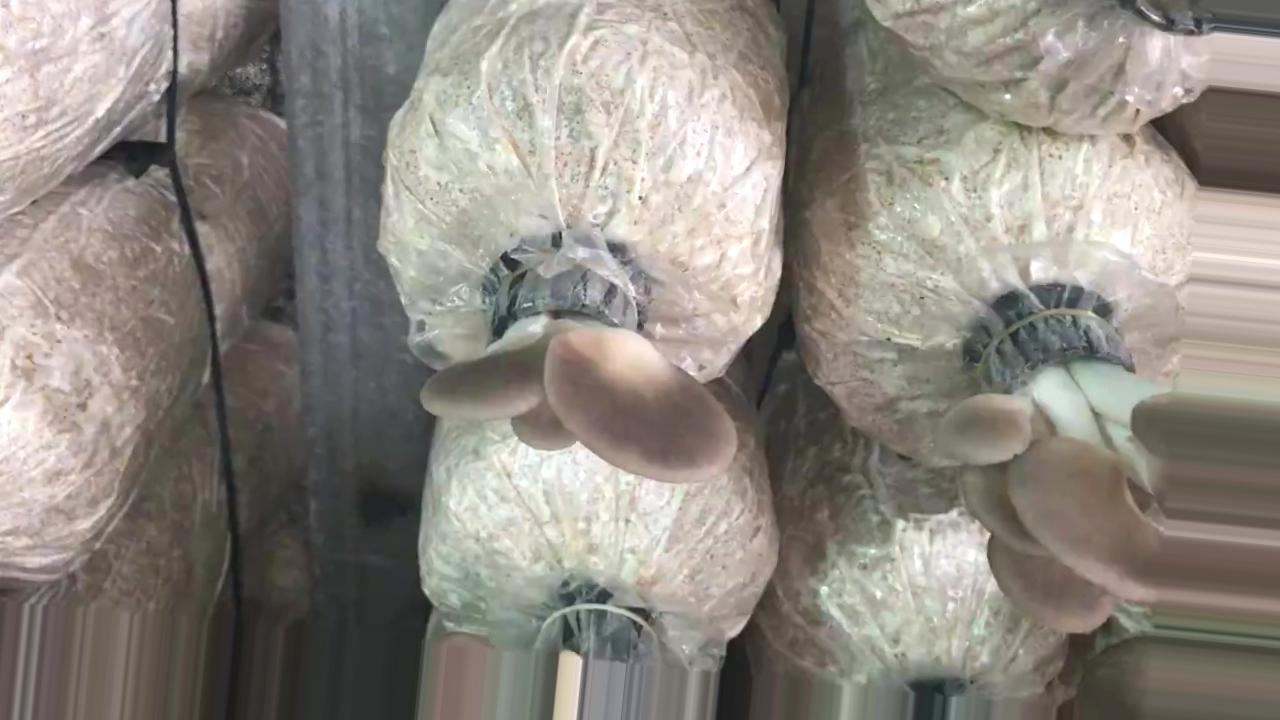nam: (939, 306, 1280, 637), (416, 239, 739, 487)
